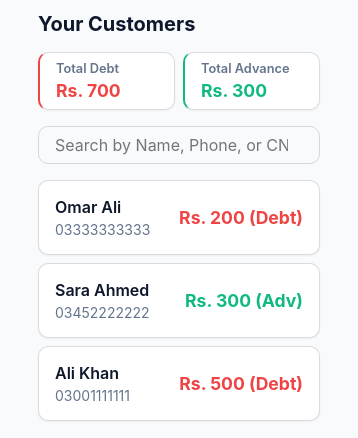
Scenario: CustomerList › Balance filter › shows filtered-empty message when no customers match balance filter
Click the button with aria-label "Filter customers with advance or settled balance": (252, 80) [183,52,320,110]
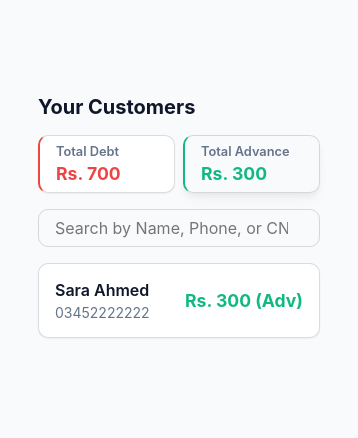
In the search field named "Search customers by name, phone, or CNIC": (179, 228) [38,208,320,246], type "Ali"
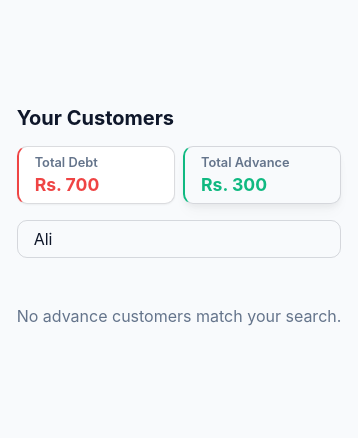
Check: the text "No advance customers match your search." is shown, box [17,306,341,326]
